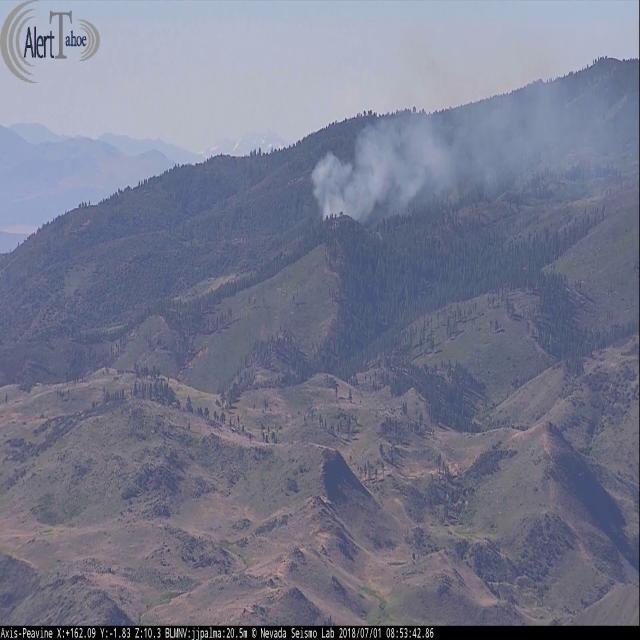smoke: (309, 25, 640, 232)
